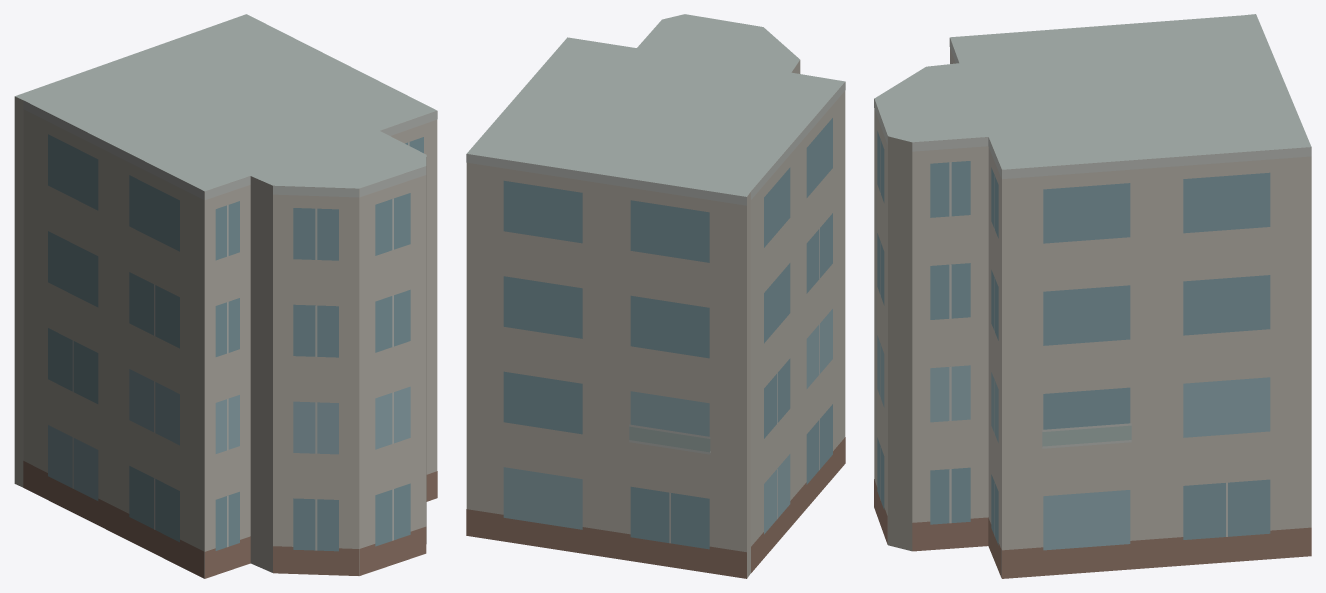
The model's file is survey-upis-32911675.glb.
3 views of the same model, side by side, from view 1: azimuth 30°, elevation 25°; view 2: azimuth 150°, elevation 25°; view 3: azimuth 270°, elevation 25° (orthographic). The views are drawn at different scales.
Parts seen in each view (by area): view 1: survey-upis-32911675.tmp; view 2: survey-upis-32911675.tmp; view 3: survey-upis-32911675.tmp.
Boxes of the visible parts, box(x1,y1,x2,y2) form: survey-upis-32911675.tmp: box(14, 14, 437, 578); survey-upis-32911675.tmp: box(466, 14, 845, 578); survey-upis-32911675.tmp: box(874, 14, 1311, 578).
Bounding box in the file's own units: 8.67 × 10.6 × 10.28.
